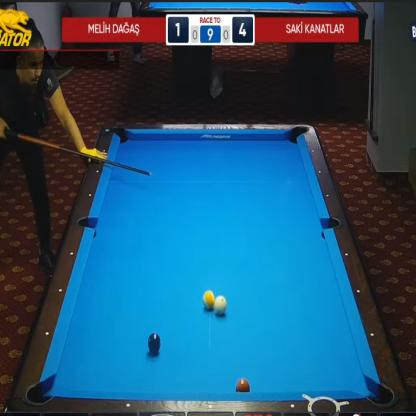Ball: (148, 332, 162, 353), (214, 296, 226, 315), (203, 290, 214, 310), (235, 378, 250, 392)
